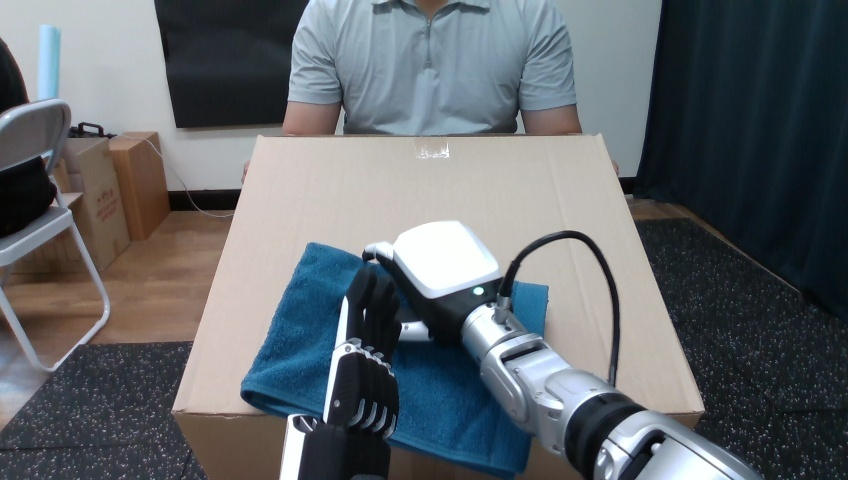left robot hand: (281, 221, 760, 479), (363, 221, 760, 479), (510, 238, 613, 381), (510, 238, 612, 381)
